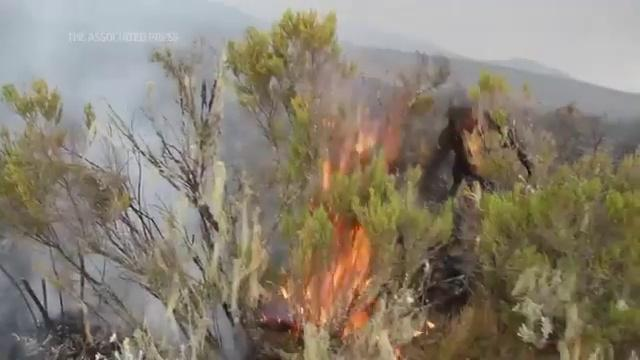fire: (316, 239, 359, 319)
